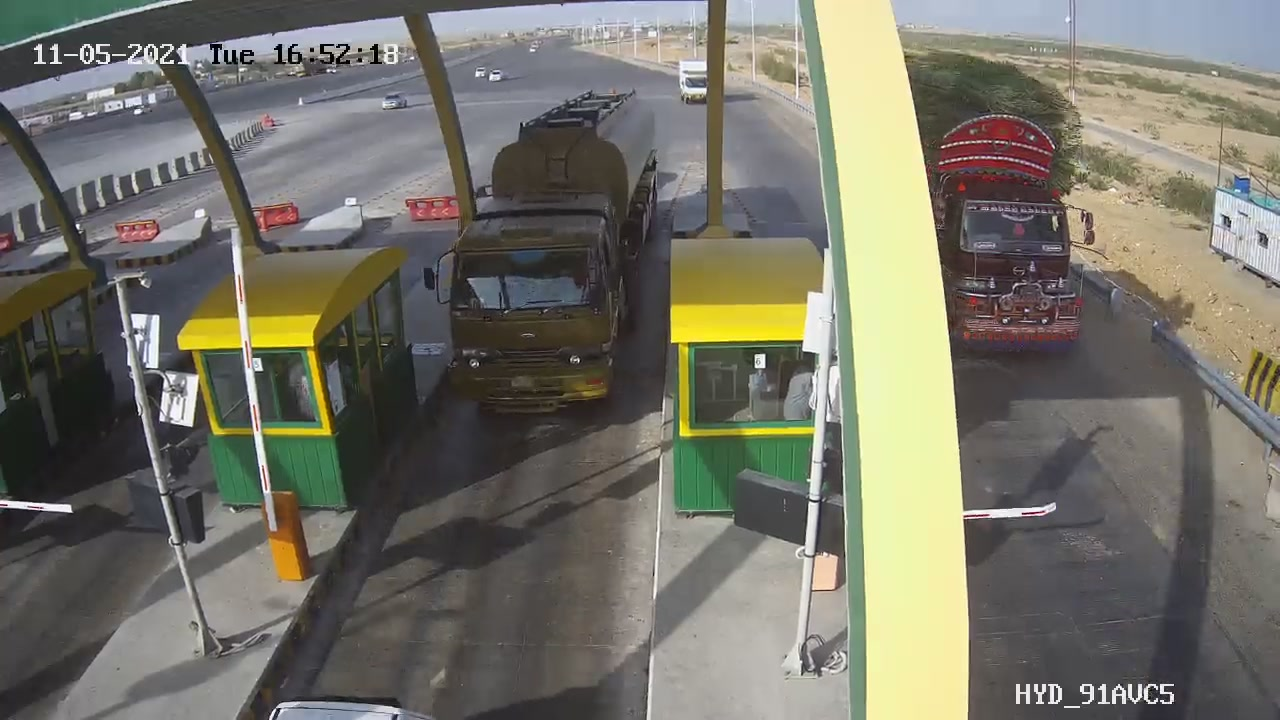F6: (410, 76, 680, 432)
